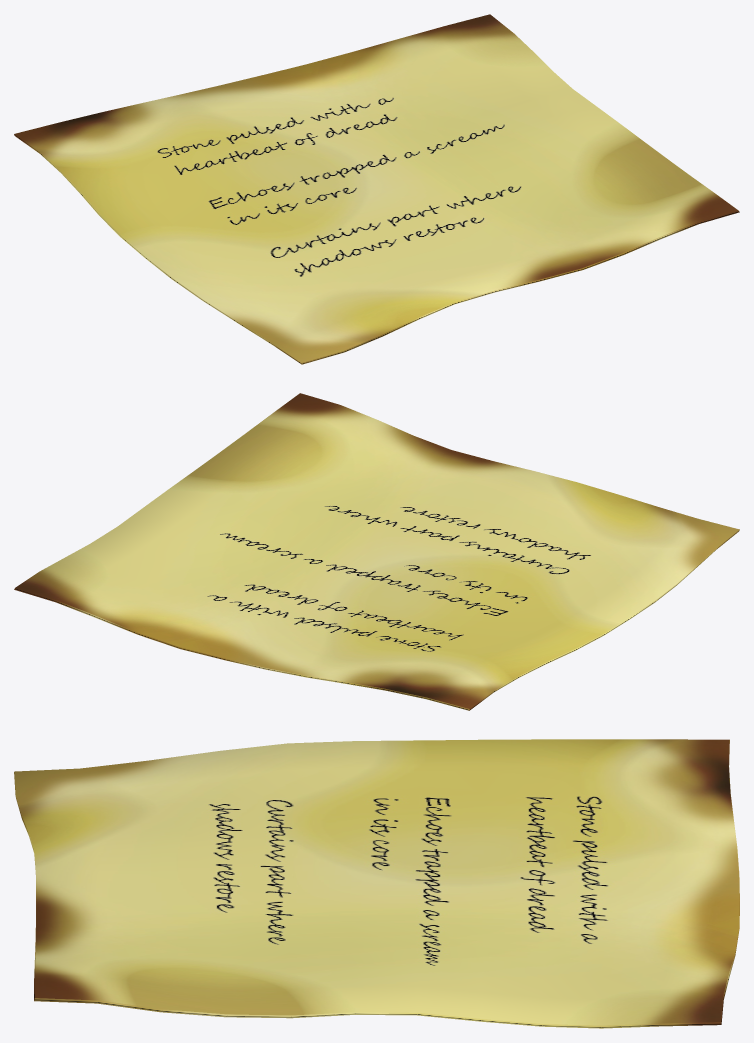
File: Paper10.glb
The picture shows the model from 3 angles, top to bottom: view 1: azimuth 30°, elevation 25°; view 2: azimuth 150°, elevation 25°; view 3: azimuth 270°, elevation 25°; orthographic projection. The views are drawn at different scales.
Parts seen in each view (by area): view 1: Plane; view 2: Plane; view 3: Plane.
Part boxes in pixels (x1,y1,x2,y2): Plane: (14, 14, 739, 364); Plane: (14, 393, 739, 710); Plane: (14, 739, 739, 1028).
Bounding box in the file's own units: 0.8607 × 0.0672 × 0.8722.
1 material, 1 textured.
